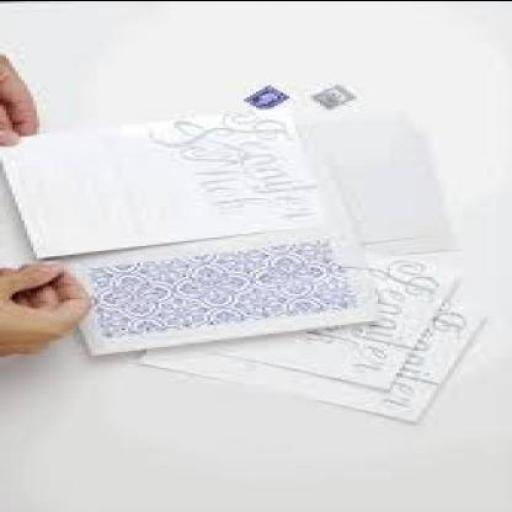paper: (52, 192, 382, 352), (2, 102, 332, 256), (140, 294, 491, 422), (150, 252, 464, 386), (259, 108, 463, 252), (244, 82, 293, 106), (311, 82, 360, 104)
